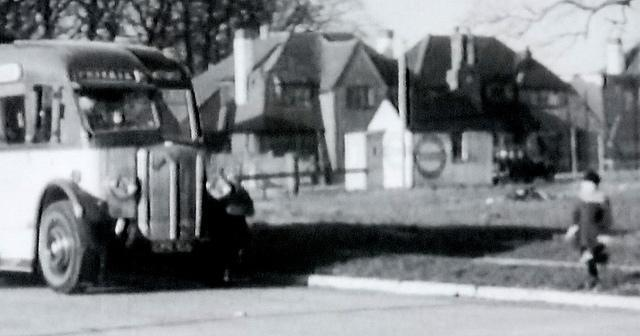bus: (0, 36, 208, 296)
